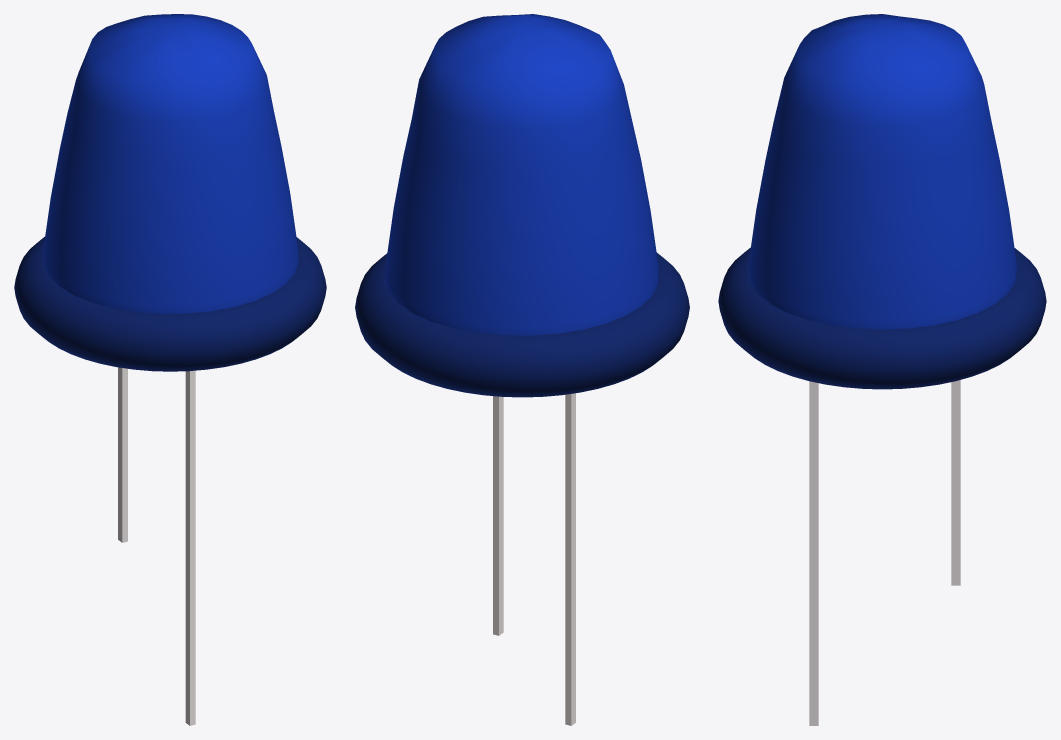
The model's file is LED Blue.fbx.
3 renders of one model, left to right at view 1: azimuth 30°, elevation 25°; view 2: azimuth 150°, elevation 25°; view 3: azimuth 270°, elevation 25°, orthographic. The views are drawn at different scales.
Visible parts, largest first — view 1: Torus, Cube, Cube.001; view 2: Torus, Cube, Cube.001; view 3: Torus, Cube, Cube.001.
Boxes of the visible parts, x1,y1,x2,y2 form: Torus: (14,14,326,371); Cube: (185,370,195,725); Cube.001: (118,367,127,542); Torus: (355,14,689,397); Cube: (565,393,575,725); Cube.001: (493,396,503,635); Torus: (718,14,1046,389); Cube: (809,381,818,725); Cube.001: (951,380,960,585).
Size of the model in its own units: 11.47 by 27.12 by 11.47.
